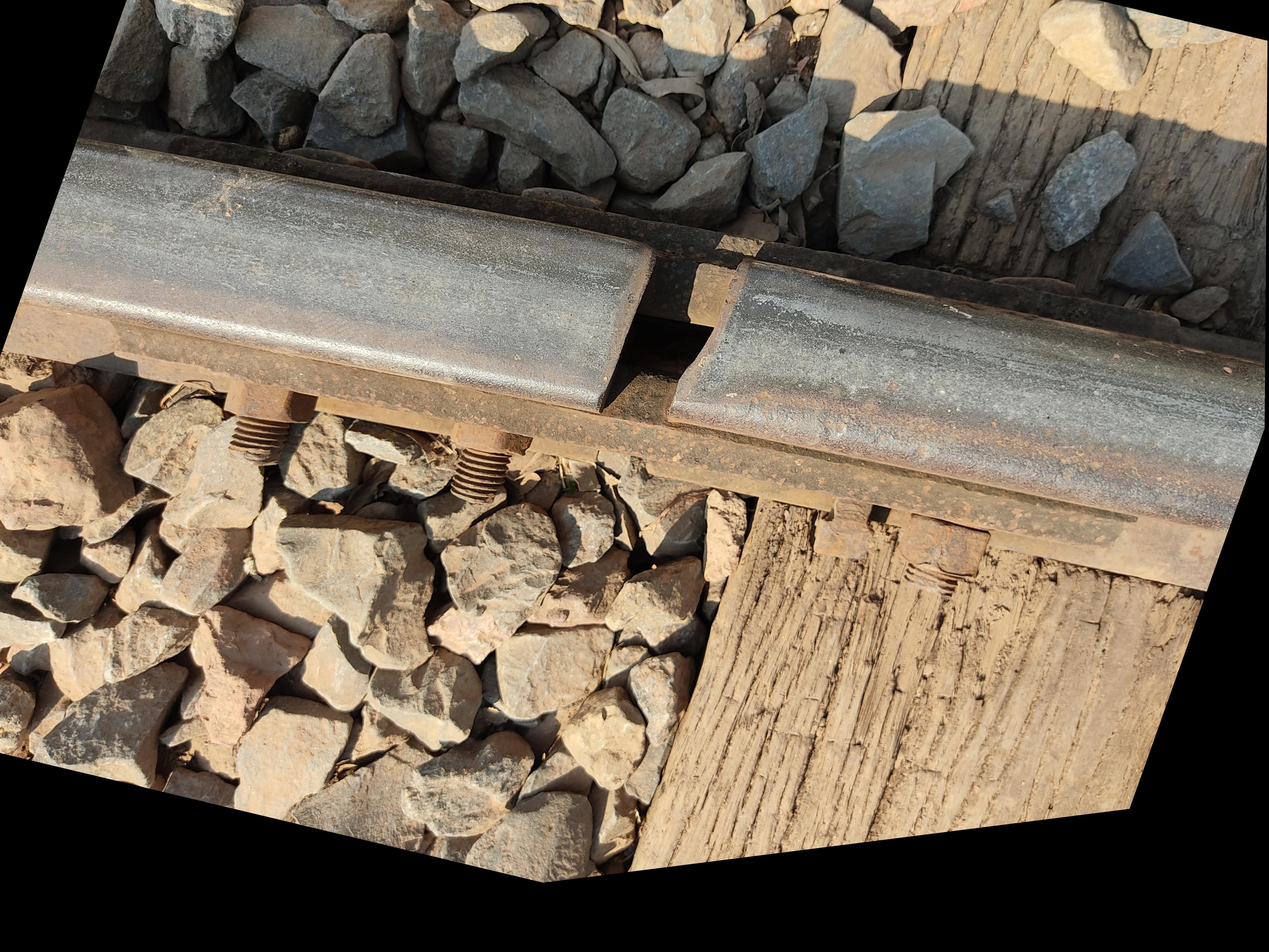person: (205, 450, 363, 615)
